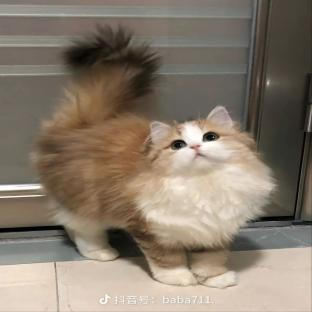Animal: (31, 26, 276, 288)
